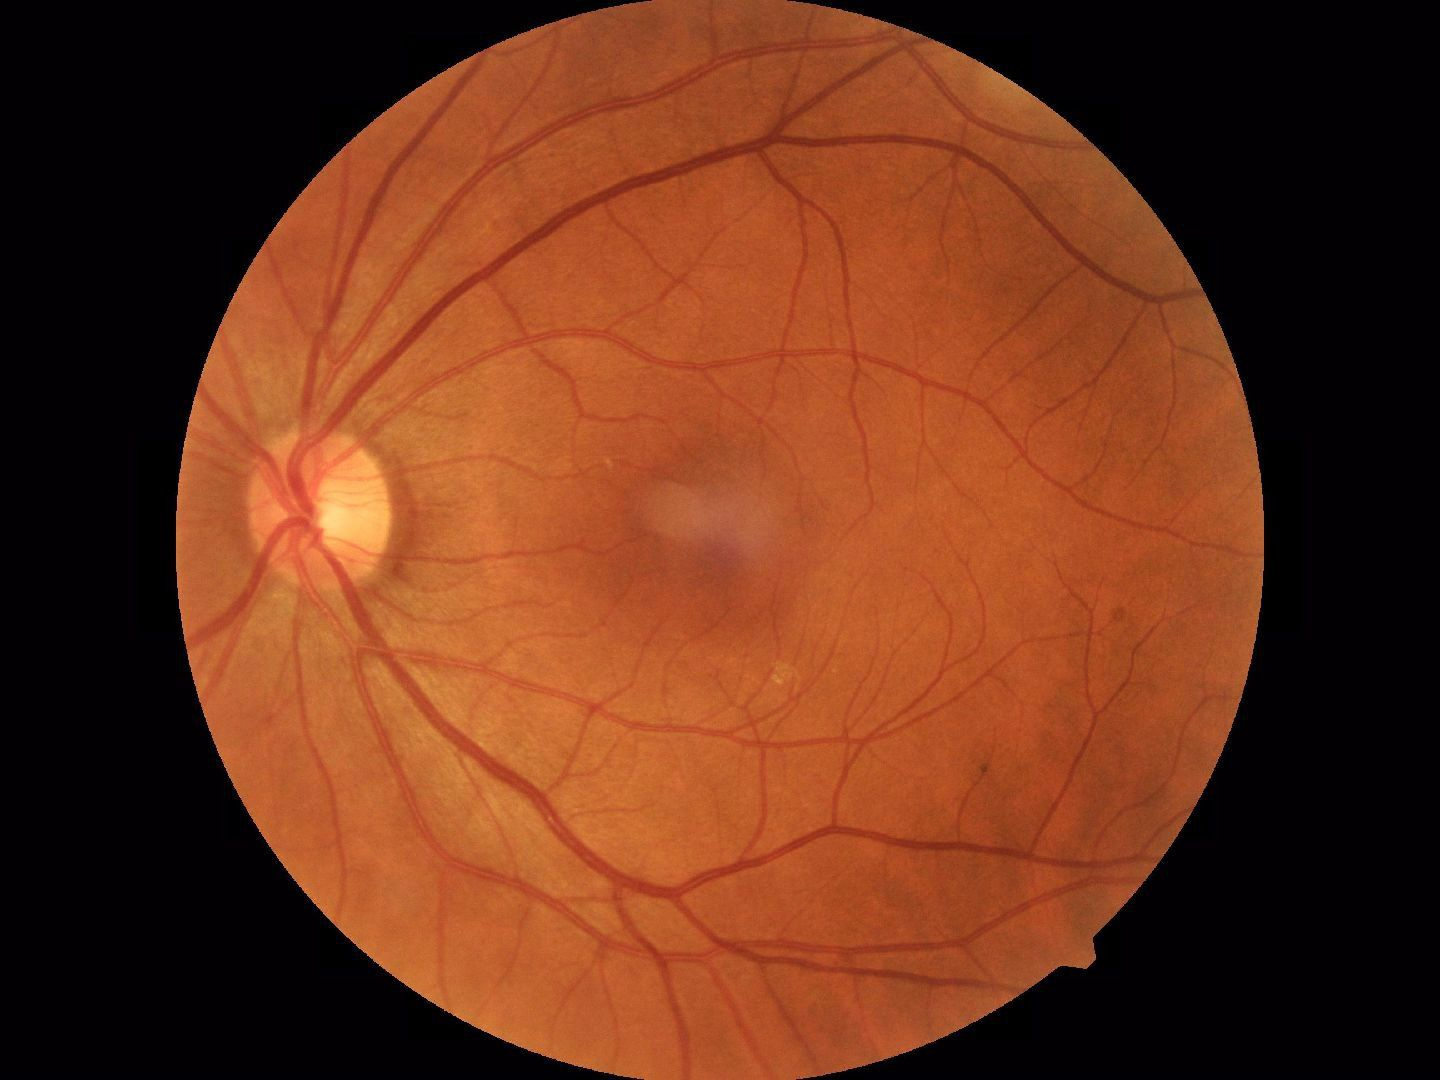Hemorrhages: (582, 438, 814, 627)
Optic-Disc: (249, 427, 409, 594)
Venules: (437, 123, 905, 275)
